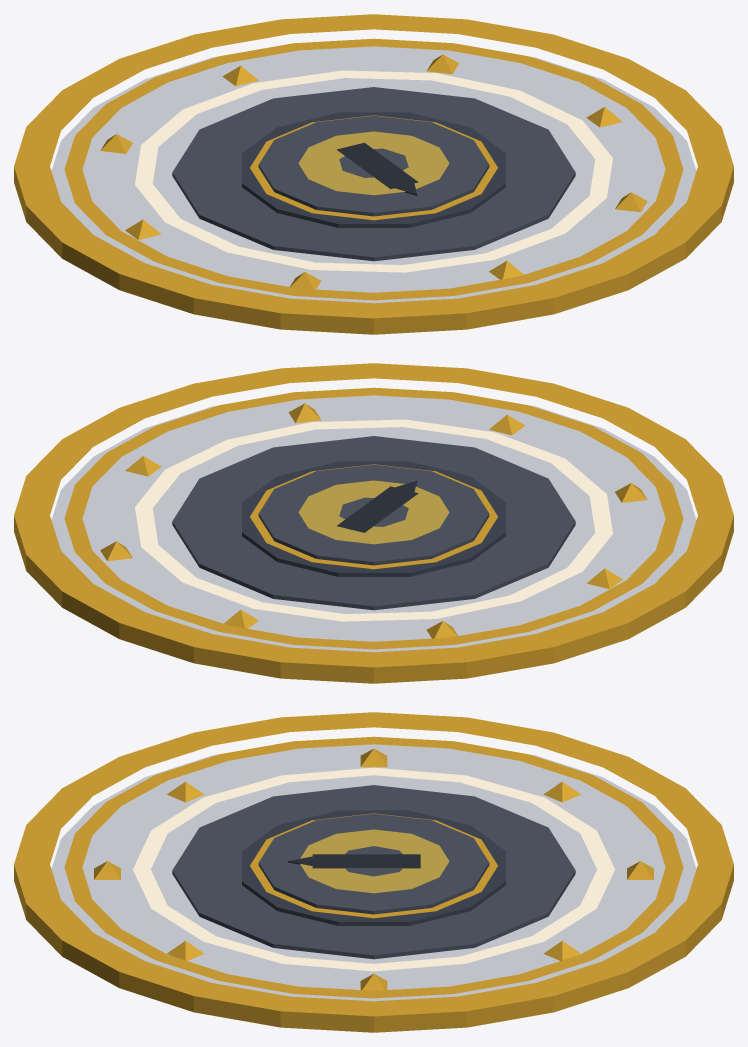
File: mortar_legend_area.glb
The picture shows the model from 3 angles, top to bottom: view 1: azimuth 30°, elevation 25°; view 2: azimuth 150°, elevation 25°; view 3: azimuth 270°, elevation 25°; orthographic projection.
Visible parts, largest first — view 1: mortar_legend_area; view 2: mortar_legend_area; view 3: mortar_legend_area.
Part boxes in pixels (<box>): mortar_legend_area: <box>14,14,733,334</box>; mortar_legend_area: <box>14,363,733,683</box>; mortar_legend_area: <box>14,712,733,1032</box>.
Size of the model in its own units: 2 by 0.06 by 2.
2 materials, 2 textured.
